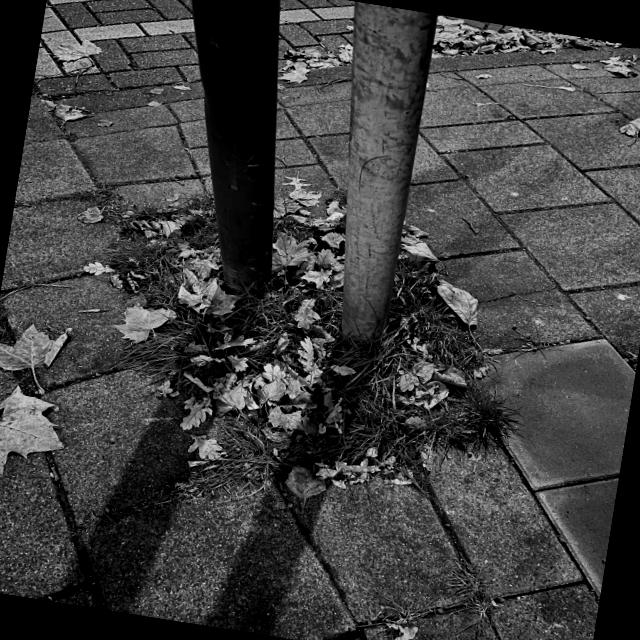leaves: (125, 171, 359, 467), (0, 323, 74, 476), (112, 300, 185, 344)
pavement: (0, 0, 515, 639), (405, 54, 639, 639), (266, 67, 358, 193), (272, 0, 357, 56)
weed: (190, 326, 510, 497), (121, 272, 311, 386), (392, 263, 499, 380), (103, 236, 180, 310), (449, 556, 500, 625), (184, 191, 227, 248), (275, 213, 321, 240)
weedling: (63, 178, 137, 228)
